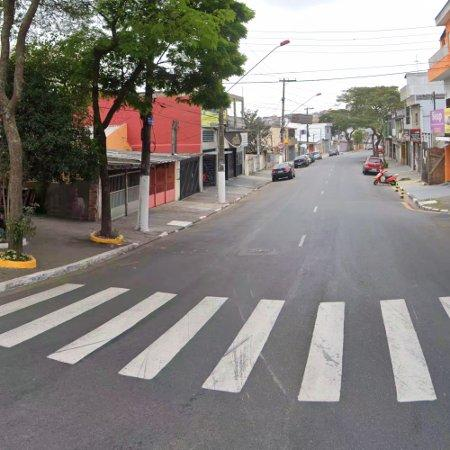crosswalks: (0, 281, 450, 402)
